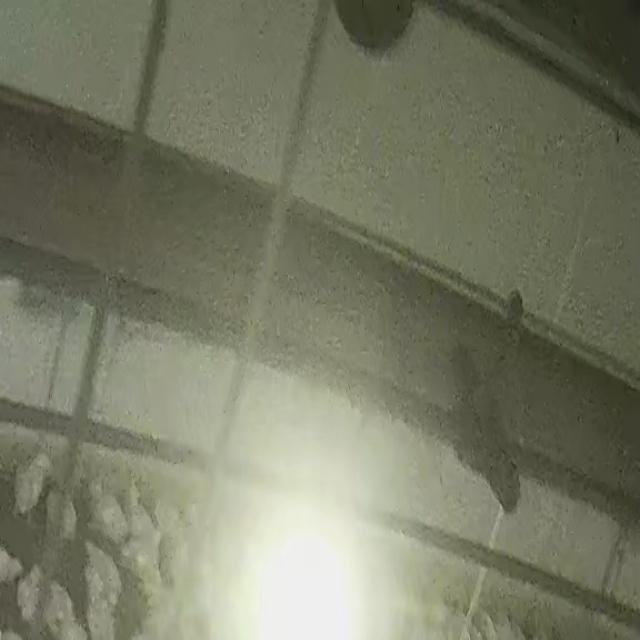chicken: (89, 478, 127, 543), (10, 458, 50, 516), (86, 541, 120, 599), (46, 493, 76, 543), (17, 569, 39, 623), (89, 598, 117, 640), (50, 582, 74, 620), (0, 550, 20, 580)
